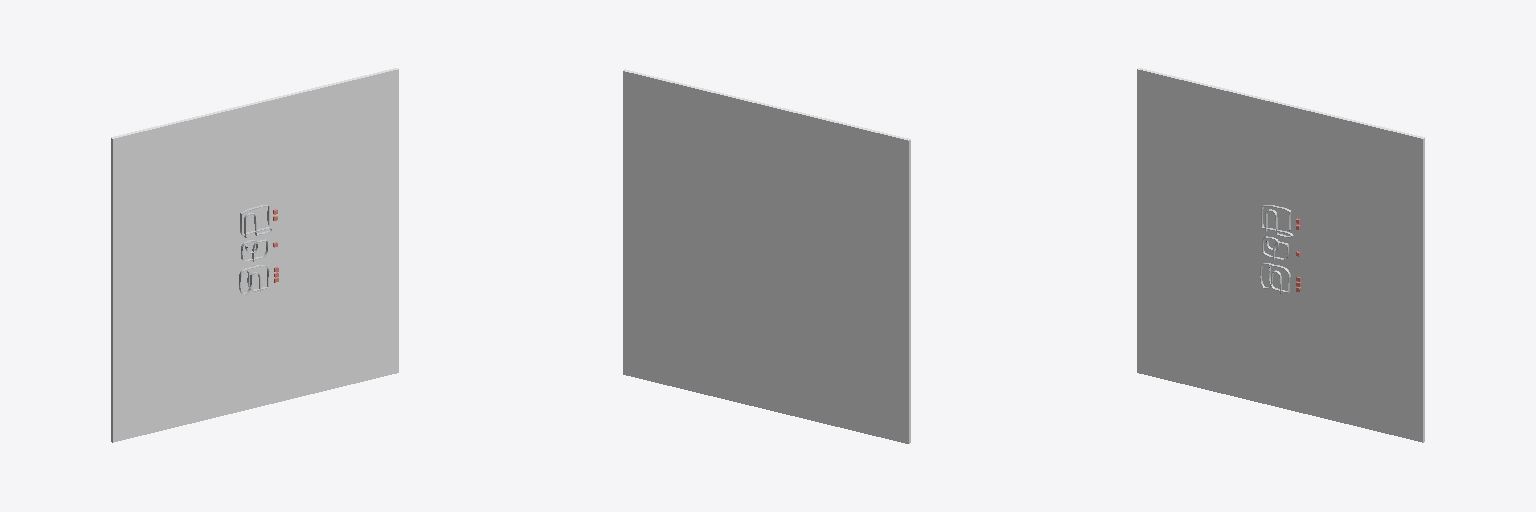
The model's file is aos4_minimaps.obj.
3 renders of one model, left to right at view 1: azimuth 30°, elevation 25°; view 2: azimuth 150°, elevation 25°; view 3: azimuth 330°, elevation 25°, orthographic.
Parts seen in each view (by area): view 1: obj_0; view 2: obj_0; view 3: obj_0.
Boxes of the visible parts, x1,y1,x2,y2 form: obj_0: [111, 68, 398, 442]; obj_0: [623, 69, 910, 443]; obj_0: [1137, 68, 1424, 442].
Size of the model in its own units: 233 by 236 by 6.25.